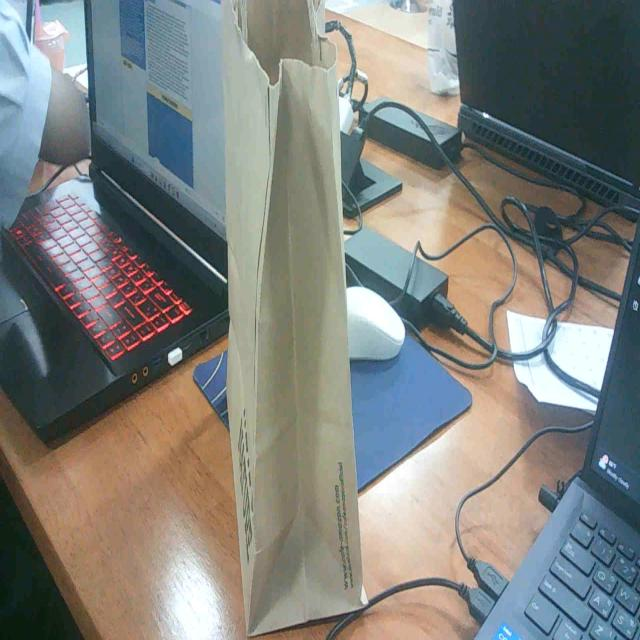bag: (217, 0, 378, 640)
